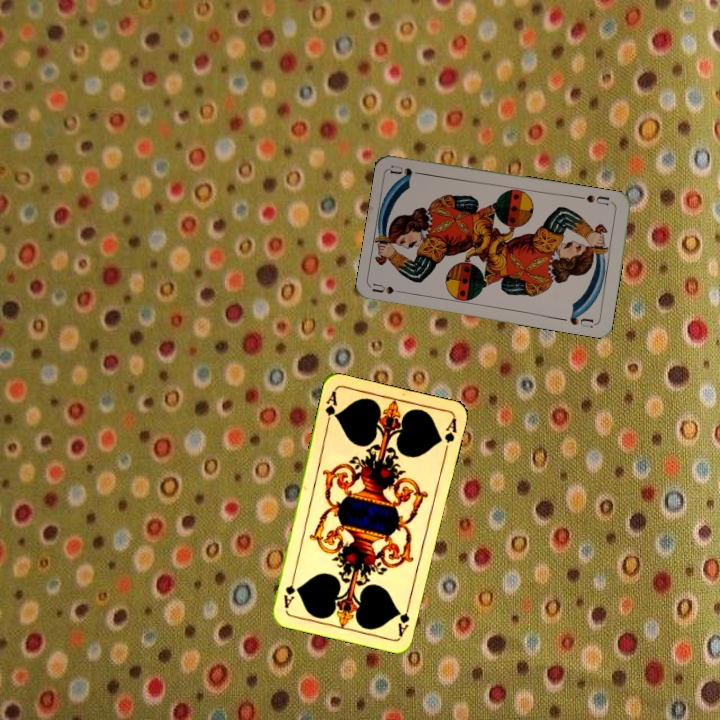GA: (321, 387, 340, 427), (394, 598, 413, 638)
SU: (370, 280, 410, 297), (582, 191, 616, 208)
